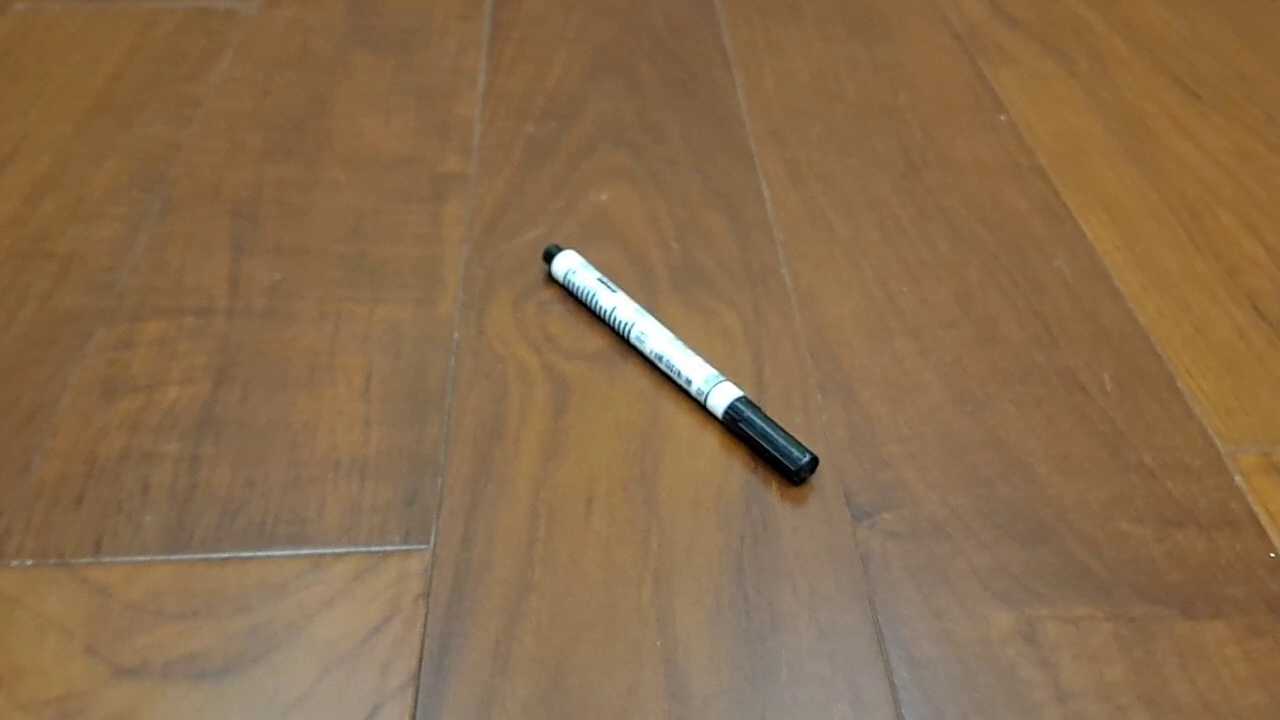pen: (541, 242, 820, 488)
